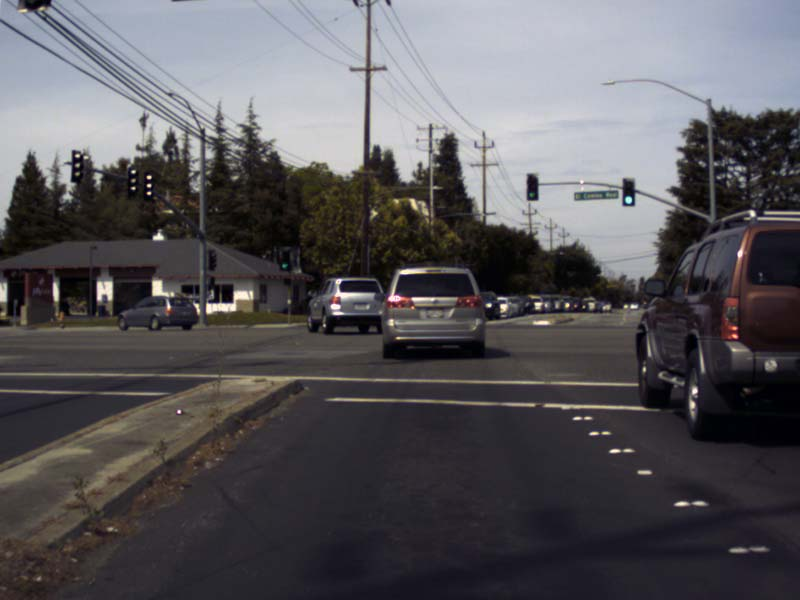Green: (623, 178, 634, 206), (527, 175, 537, 200), (281, 251, 288, 269)
